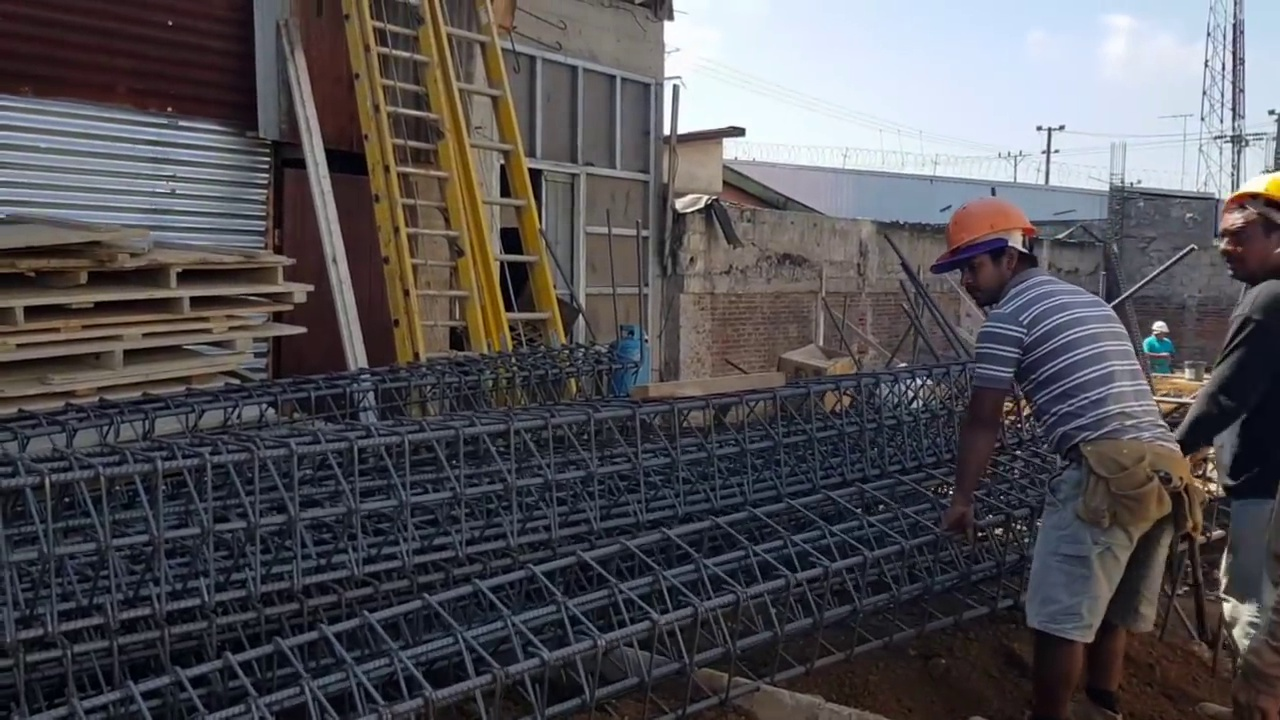helmet: (926, 196, 1048, 282), (1225, 170, 1280, 207), (1151, 320, 1170, 335)
helmet-on: (928, 195, 1048, 315), (1215, 170, 1280, 285), (1150, 320, 1171, 341)
person: (917, 205, 1206, 683), (1184, 168, 1280, 707), (1145, 320, 1181, 371)
